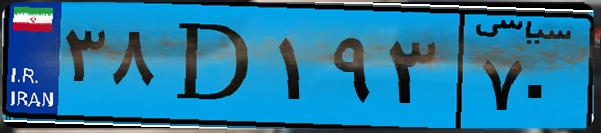0: (525, 38, 570, 115)
1: (270, 28, 330, 110)
3: (385, 28, 445, 110), (57, 26, 110, 100)
7: (475, 38, 525, 113)
8: (110, 28, 158, 98)
9: (330, 28, 385, 110)
D: (158, 12, 270, 120)
